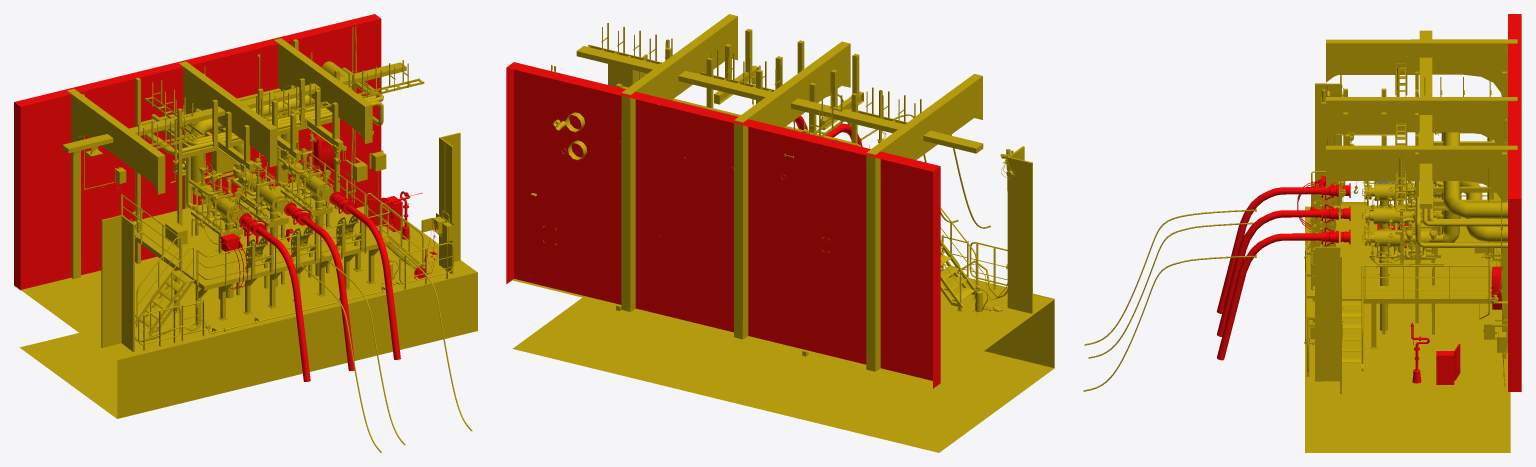
File: LNGManifold.fbx
3 views of the same model, side by side, from view 1: azimuth 30°, elevation 25°; view 2: azimuth 150°, elevation 25°; view 3: azimuth 270°, elevation 25° (orthographic). The views are drawn at different scales.
Visible parts, largest first — view 1: ShipFloor, WallBack, SM_MERGED_StaticMeshActor_288, Floor, Arch_01, Railings, L_Large_Liquid_Pipe, Arch_00, StairsL, Supports_15, L_Small_Lines, LNG-Pipes_01 (+15 smaller); view 2: WallBack, ShipFloor, SM_MERGED_StaticMeshActor_288, Arch_01, StairsL, Railing1, Arch_00; view 3: ShipFloor, SM_MERGED_StaticMeshActor_288, Floor, WallBack, Arch_00, L_Large_Liquid_Pipe, Arch_01, R_Large_Liquid_Line, C_Large_Vapour_Line, LNG-Pipes_03, L_Small_Lines, LNG-Pipes_02 (+9 smaller).
Part boxes in pixels (x1,y1,x2,y2): ShipFloor: (19, 205, 477, 418); WallBack: (14, 14, 381, 290); SM_MERGED_StaticMeshActor_288: (62, 38, 424, 278); Floor: (132, 181, 386, 290); Arch_01: (82, 54, 454, 351); Railings: (121, 149, 389, 287); L_Large_Liquid_Pipe: (186, 61, 376, 236); Arch_00: (439, 132, 460, 274); StairsL: (135, 237, 194, 337); Supports_15: (194, 248, 378, 325); L_Small_Lines: (135, 67, 383, 221); LNG-Pipes_01: (256, 227, 310, 381); WallBack: (506, 62, 940, 388); ShipFloor: (512, 271, 1054, 452); SM_MERGED_StaticMeshActor_288: (576, 14, 983, 371); Arch_01: (531, 104, 1032, 313); StairsL: (940, 207, 977, 311); Railing1: (941, 234, 1007, 290); Arch_00: (608, 54, 647, 87); ShipFloor: (1305, 206, 1510, 452); SM_MERGED_StaticMeshActor_288: (1326, 30, 1517, 347); Floor: (1320, 205, 1496, 303); WallBack: (1508, 14, 1521, 391); Arch_00: (1315, 247, 1341, 393); L_Large_Liquid_Pipe: (1371, 132, 1507, 221); Arch_01: (1309, 48, 1507, 358); R_Large_Liquid_Line: (1370, 181, 1459, 258); C_Large_Vapour_Line: (1369, 181, 1507, 241); LNG-Pipes_03: (1217, 233, 1321, 360); L_Small_Lines: (1416, 132, 1507, 247); LNG-Pipes_02: (1217, 210, 1321, 336).
Bounding box in the file's own units: 1128 × 726 × 1125.
